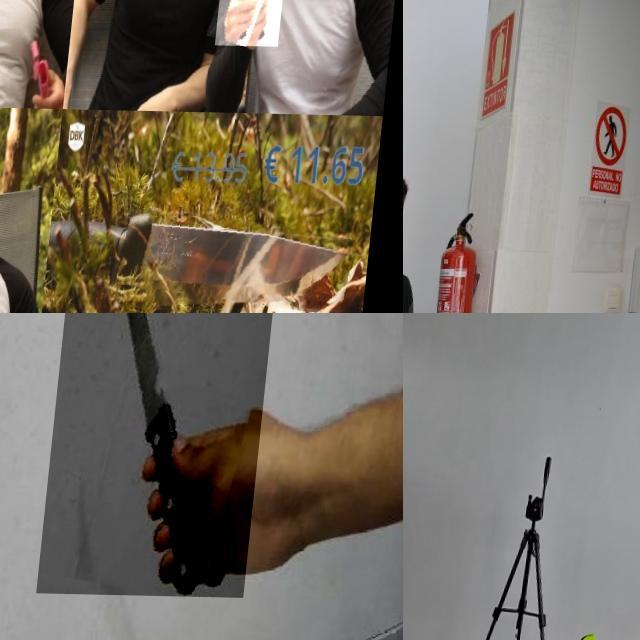-: (47, 313, 285, 595), (126, 212, 366, 307), (220, 0, 296, 83), (0, 214, 43, 284), (0, 0, 43, 31)
gun-knife-thesis - v11 Yolov5 augmented: (403, 448, 412, 548)
